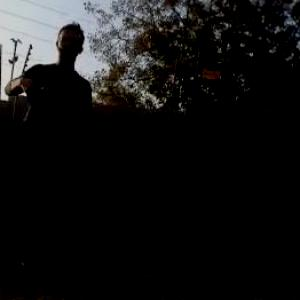follow: (0, 14, 98, 284)
